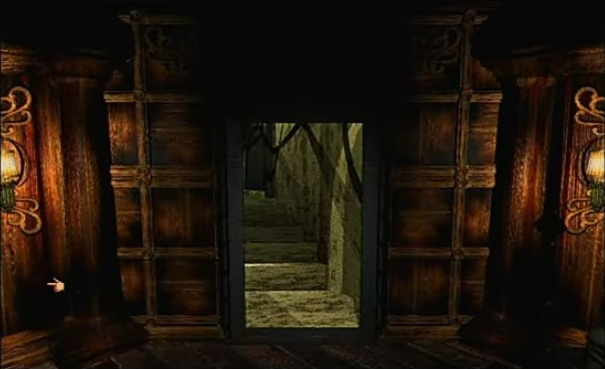Pointer: (45, 274, 67, 294)
